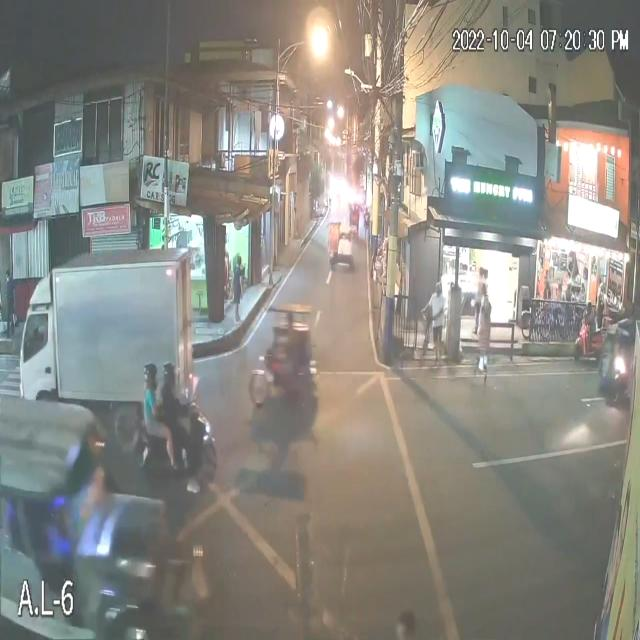Full-Faced: (142, 358, 162, 390), (162, 355, 179, 387)
